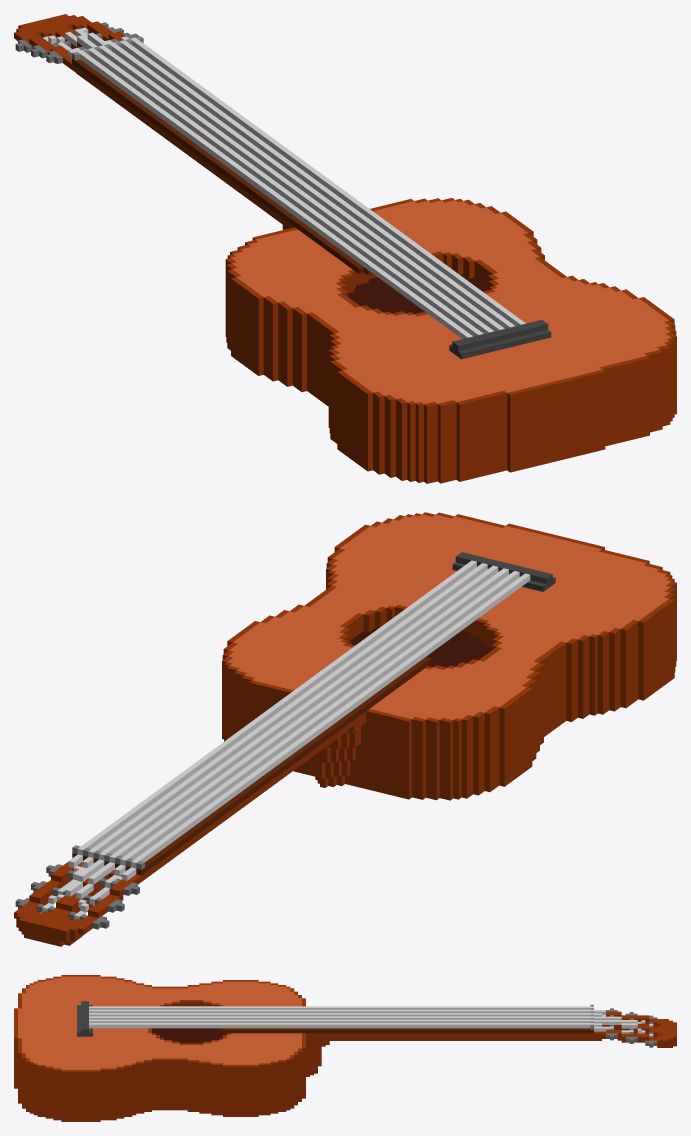
The model's file is VoxelClassicGuitar.obj.
3 renders of one model, top to bottom at view 1: azimuth 30°, elevation 25°; view 2: azimuth 150°, elevation 25°; view 3: azimuth 270°, elevation 25°, orthographic. The views are drawn at different scales.
Size of the model in its own units: 5.8 by 1.6 by 16.8.
1 material, 1 textured.
